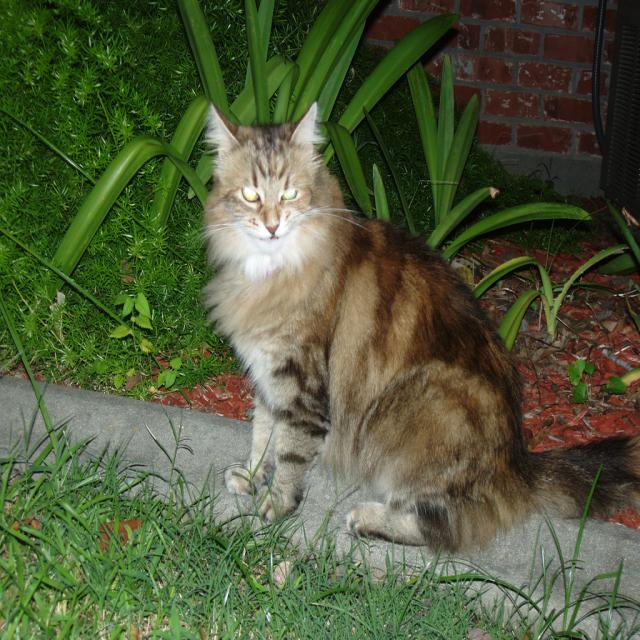cat: (199, 99, 640, 561)
